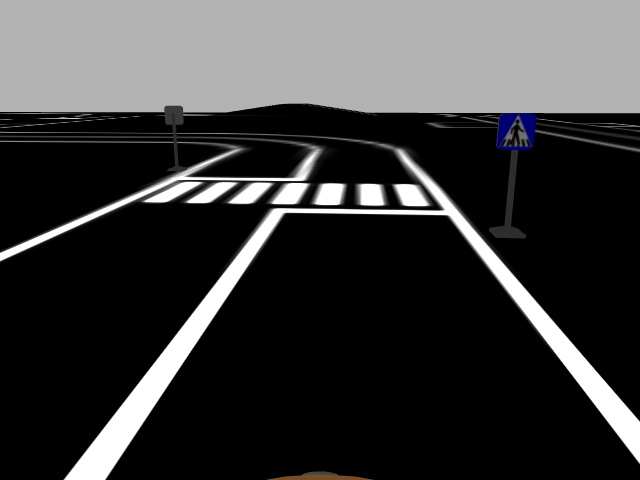crosswalk: (496, 110, 538, 153)
